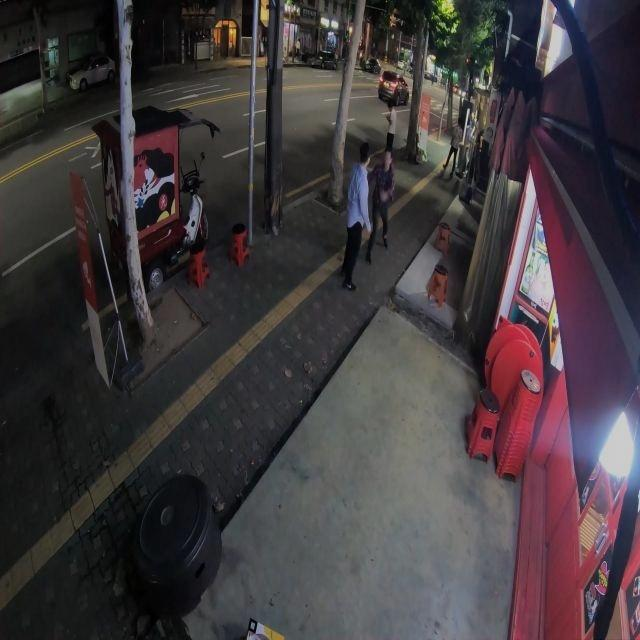fight: (340, 136, 394, 292), (377, 97, 399, 158)
